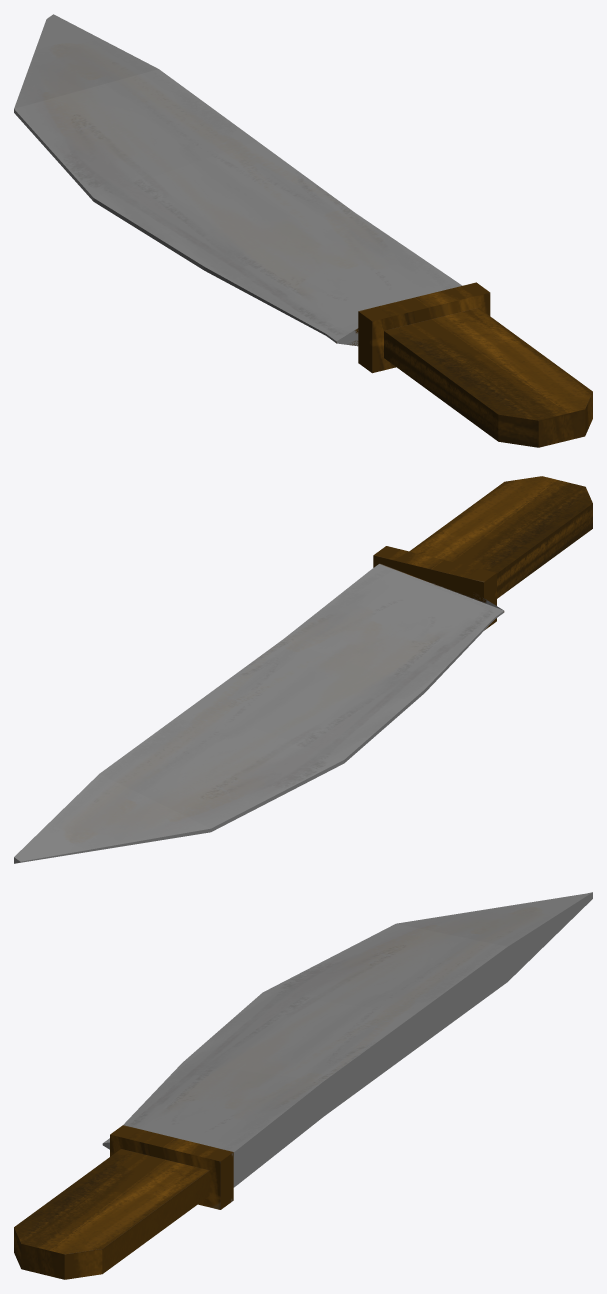
File: cuchillo.fbx
3 views of the same model, one above another, from view 1: azimuth 30°, elevation 25°; view 2: azimuth 150°, elevation 25°; view 3: azimuth 330°, elevation 25° (orthographic). The views are drawn at different scales.
Visible parts, largest first — view 1: Cube; view 2: Cube; view 3: Cube.
Part boxes in pixels (x1,y1,x2,y2): Cube: [14, 14, 592, 447]; Cube: [14, 476, 592, 863]; Cube: [14, 892, 592, 1279].
Bounding box in the file's own units: 27.12 × 7.63 × 146.
1 material, 1 textured.
